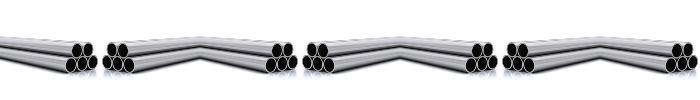pipe: (324, 58, 335, 72), (265, 58, 276, 72), (465, 58, 476, 72), (124, 58, 135, 72), (524, 58, 535, 72), (65, 58, 76, 72), (665, 58, 676, 72), (313, 56, 323, 71), (277, 56, 287, 71), (477, 56, 487, 71), (113, 56, 123, 71), (513, 56, 523, 71), (77, 56, 87, 71), (677, 56, 687, 71), (307, 43, 317, 57), (318, 44, 328, 58), (302, 55, 312, 69), (283, 43, 293, 57), (483, 43, 493, 57), (107, 43, 117, 57), (507, 43, 517, 57), (83, 43, 93, 57), (683, 43, 693, 57), (272, 44, 282, 58), (472, 44, 482, 58), (118, 44, 128, 58), (518, 44, 528, 58), (72, 44, 82, 58), (672, 44, 682, 58), (288, 55, 298, 69), (488, 55, 498, 69), (102, 55, 112, 69), (502, 55, 512, 69), (88, 55, 98, 69), (688, 55, 698, 69)
